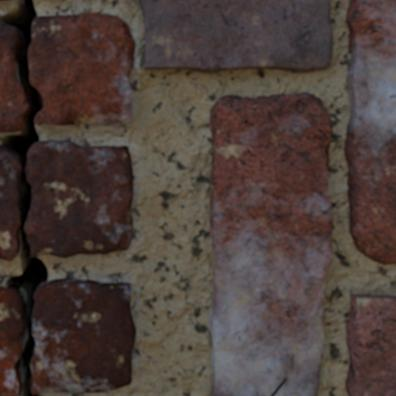brick: (210, 93, 332, 395), (139, 0, 331, 72), (344, 0, 395, 263), (346, 294, 395, 395)
broken_brick: (26, 140, 133, 258), (32, 277, 136, 394), (30, 11, 135, 126), (0, 22, 25, 132), (0, 285, 21, 395), (0, 144, 19, 261)
crack: (0, 0, 50, 395)
